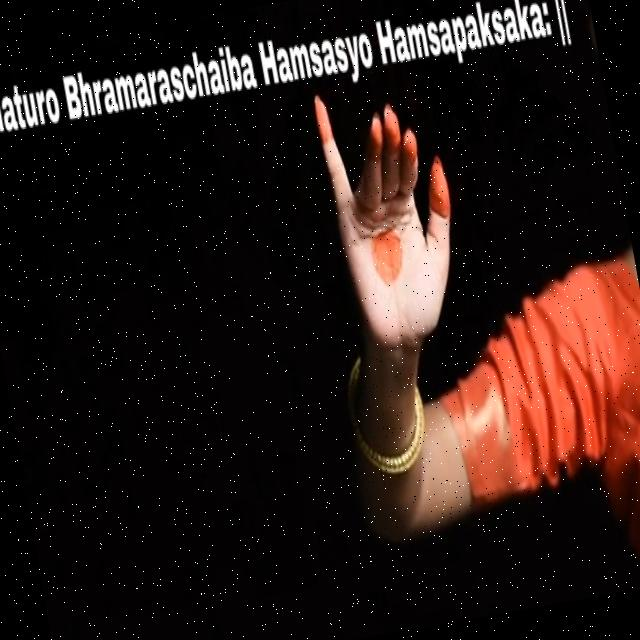Hamsapaksha: (304, 67, 486, 352)
bangle: (334, 364, 440, 488)
text: (0, 0, 578, 154)
